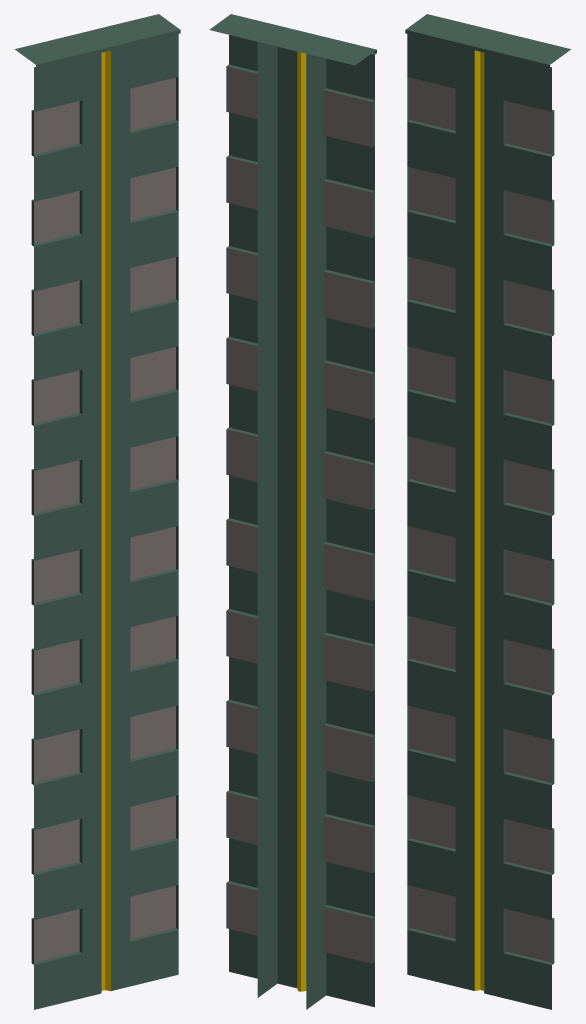
3 renders of one model, left to right at view 1: azimuth 30°, elevation 25°; view 2: azimuth 150°, elevation 25°; view 3: azimuth 330°, elevation 25°, orthographic.
Visible parts, largest first — view 1: Column.047; view 2: Column.047; view 3: Column.047.
Part boxes in pixels (<box>): Column.047: <box>14,14,180,1009</box>; Column.047: <box>209,14,376,1009</box>; Column.047: <box>405,14,571,1009</box>.
Bounding box in the file's own units: 835 × 5230 × 217.
